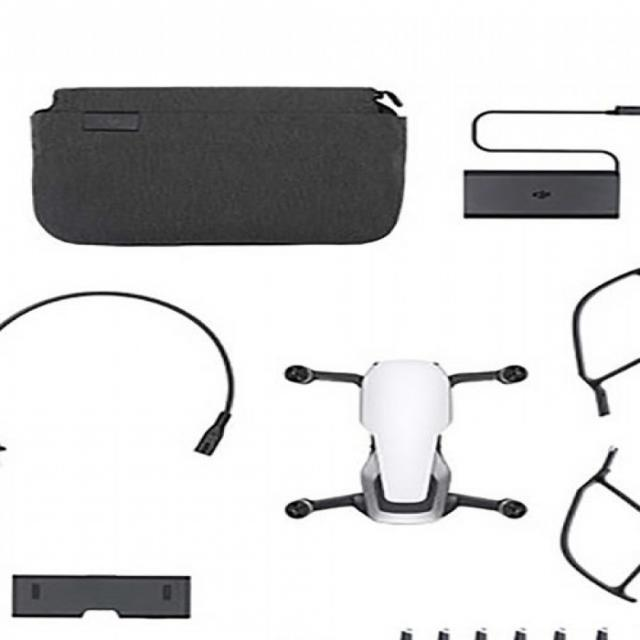drone: (258, 342, 561, 524), (569, 265, 640, 604)
